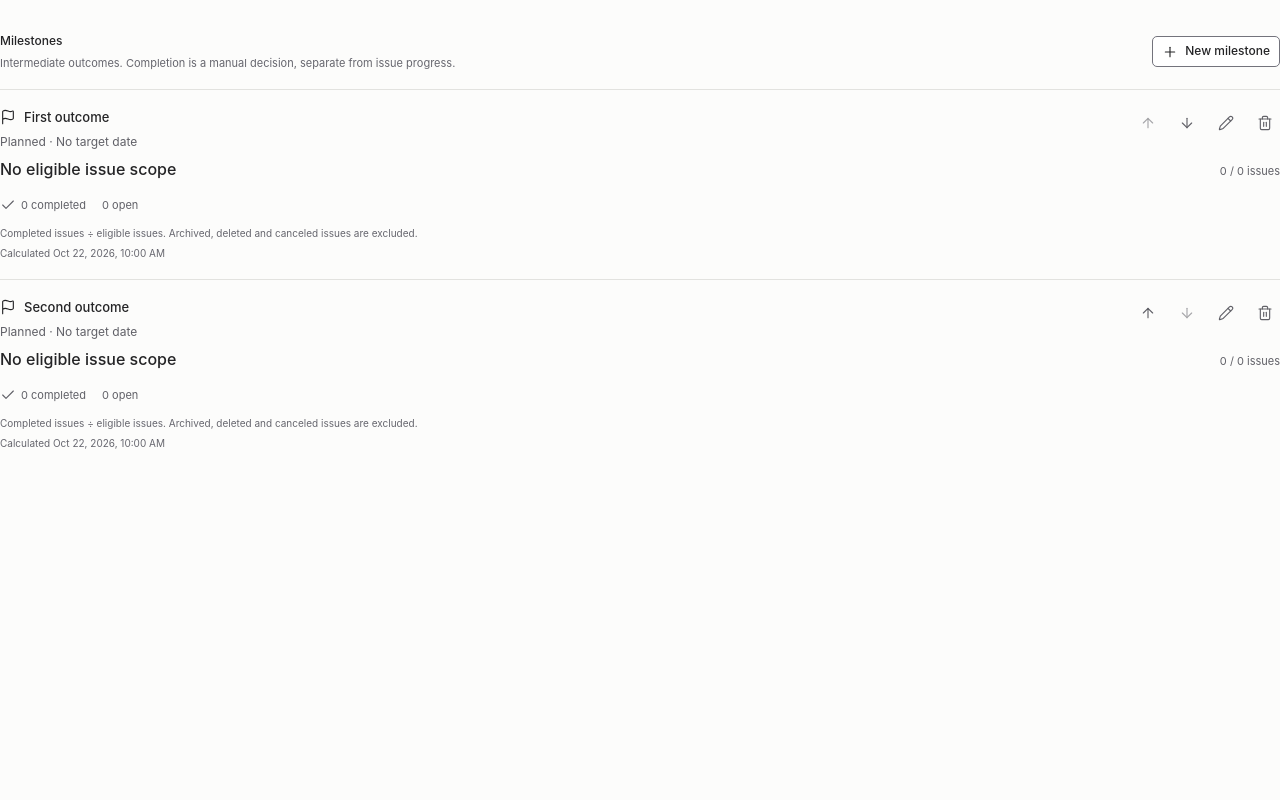
milestone planning › uses full persisted milestone order and stale project validator without optimistic movement
The image size is (1280, 800).
What coordinates should you click on to do the following:
click the button named "Move Second outcome up"
I would click on:
 (1148, 313)
Its box is x1=1132 y1=298 x2=1163 y2=328.
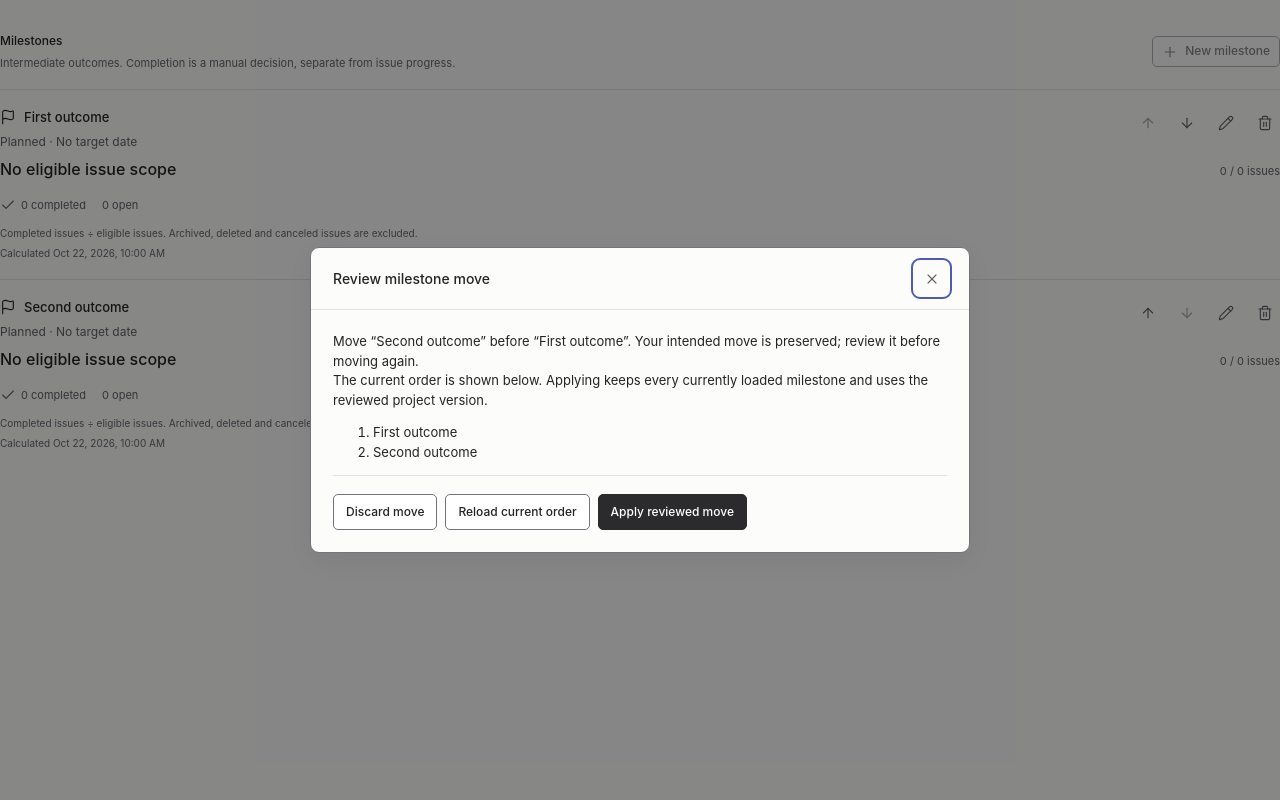
expect the text "review it before moving again" is shown: met, box x1=333 y1=333 x2=940 y2=368
expect the dialog shows "Your intended move is preserved": met, box x1=333 y1=333 x2=940 y2=368
expect the button "Apply reviewed move" is enabled: met, box x1=598 y1=494 x2=747 y2=530
